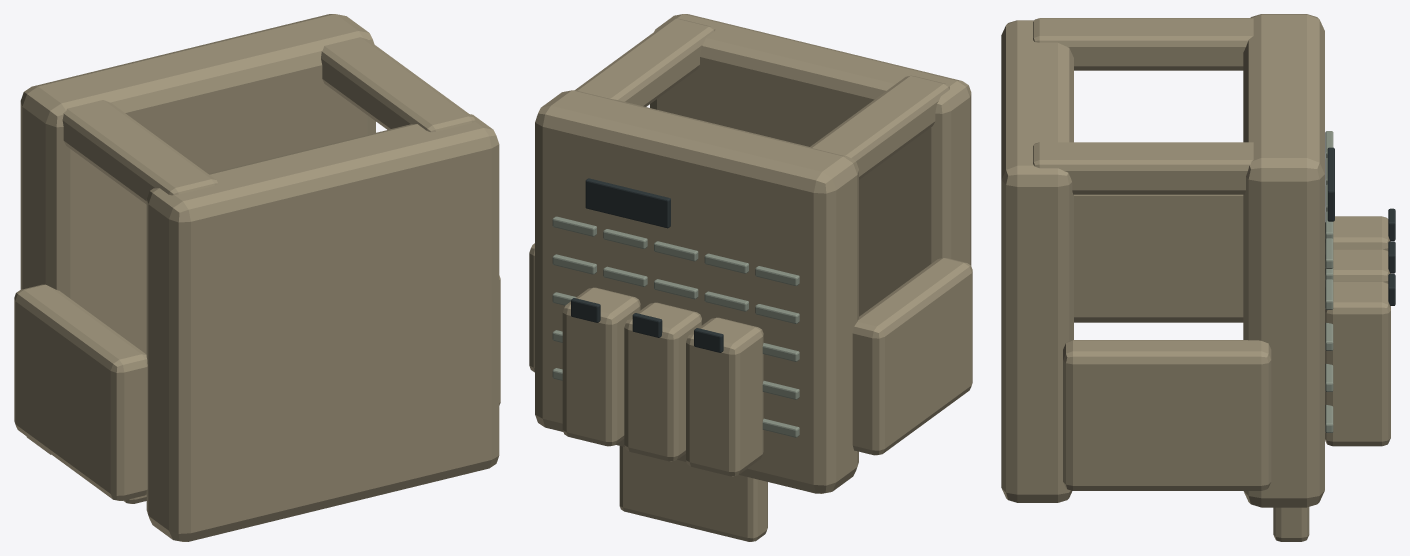
Rendered from body_armor_fiber_3c.glb.
3 renders of one model, left to right at view 1: azimuth 30°, elevation 25°; view 2: azimuth 150°, elevation 25°; view 3: azimuth 270°, elevation 25°, orthographic. The views are drawn at different scales.
Parts seen in each view (by area): view 1: body_armor_fiber_3c; view 2: body_armor_fiber_3c; view 3: body_armor_fiber_3c.
Part boxes in pixels (x1,y1,x2,y2): body_armor_fiber_3c: [14, 14, 500, 541]; body_armor_fiber_3c: [529, 14, 972, 541]; body_armor_fiber_3c: [1001, 14, 1395, 541].
Size of the model in its own units: 0.49 by 0.5145 by 0.435.
